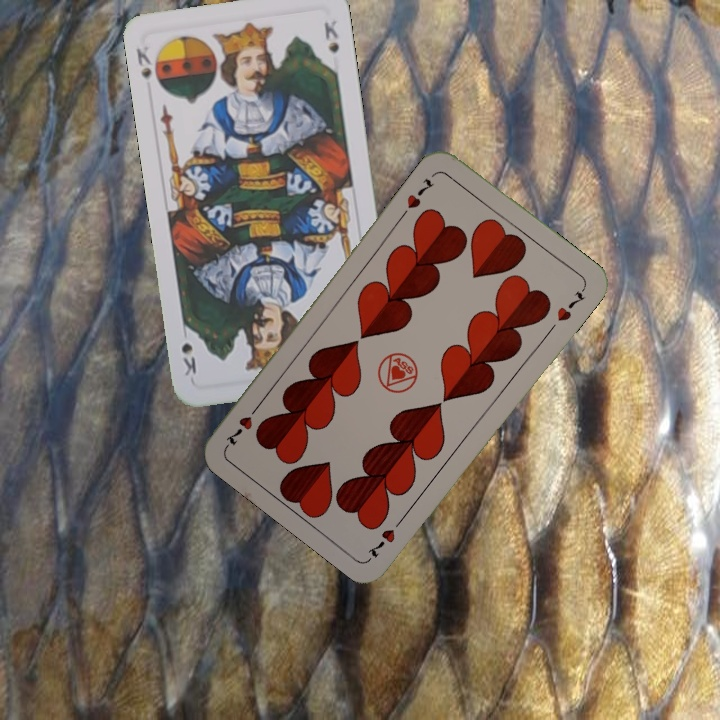H7: (363, 512, 408, 560), (402, 174, 437, 212)
SK: (132, 42, 155, 81)
